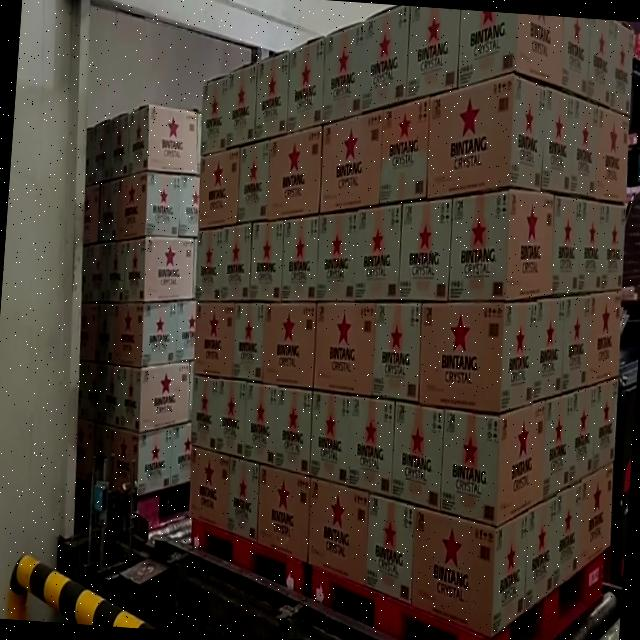pallet: (302, 1, 640, 640), (162, 18, 348, 610), (55, 80, 224, 546)
